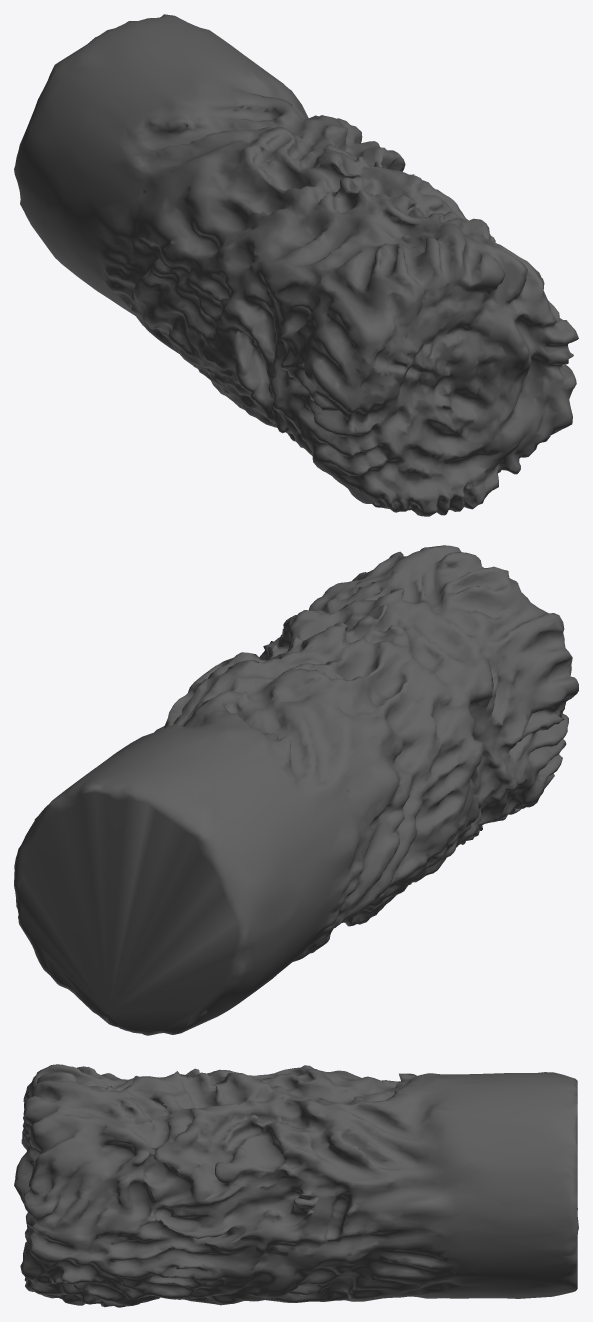
The model's file is 27_youngwon.glb.
3 renders of one model, top to bottom at view 1: azimuth 30°, elevation 25°; view 2: azimuth 150°, elevation 25°; view 3: azimuth 270°, elevation 25°, orthographic. The views are drawn at different scales.
Visible parts, largest first — view 1: Cylinder; view 2: Cylinder; view 3: Cylinder.
Part boxes in pixels (left/top/right/bottom): Cylinder: left=14, top=14, right=578, bottom=516; Cylinder: left=14, top=545, right=578, bottom=1035; Cylinder: left=14, top=1064, right=578, bottom=1307.
Size of the model in its own units: 4.39 by 4.43 by 10.2.
1 material, 1 textured.
